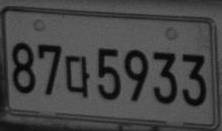3: (181, 52, 207, 107), (152, 51, 177, 105)
5: (96, 47, 121, 100)
7: (37, 44, 62, 95)
8: (10, 41, 36, 94)
9: (124, 49, 149, 102)
다: (64, 55, 90, 98)
